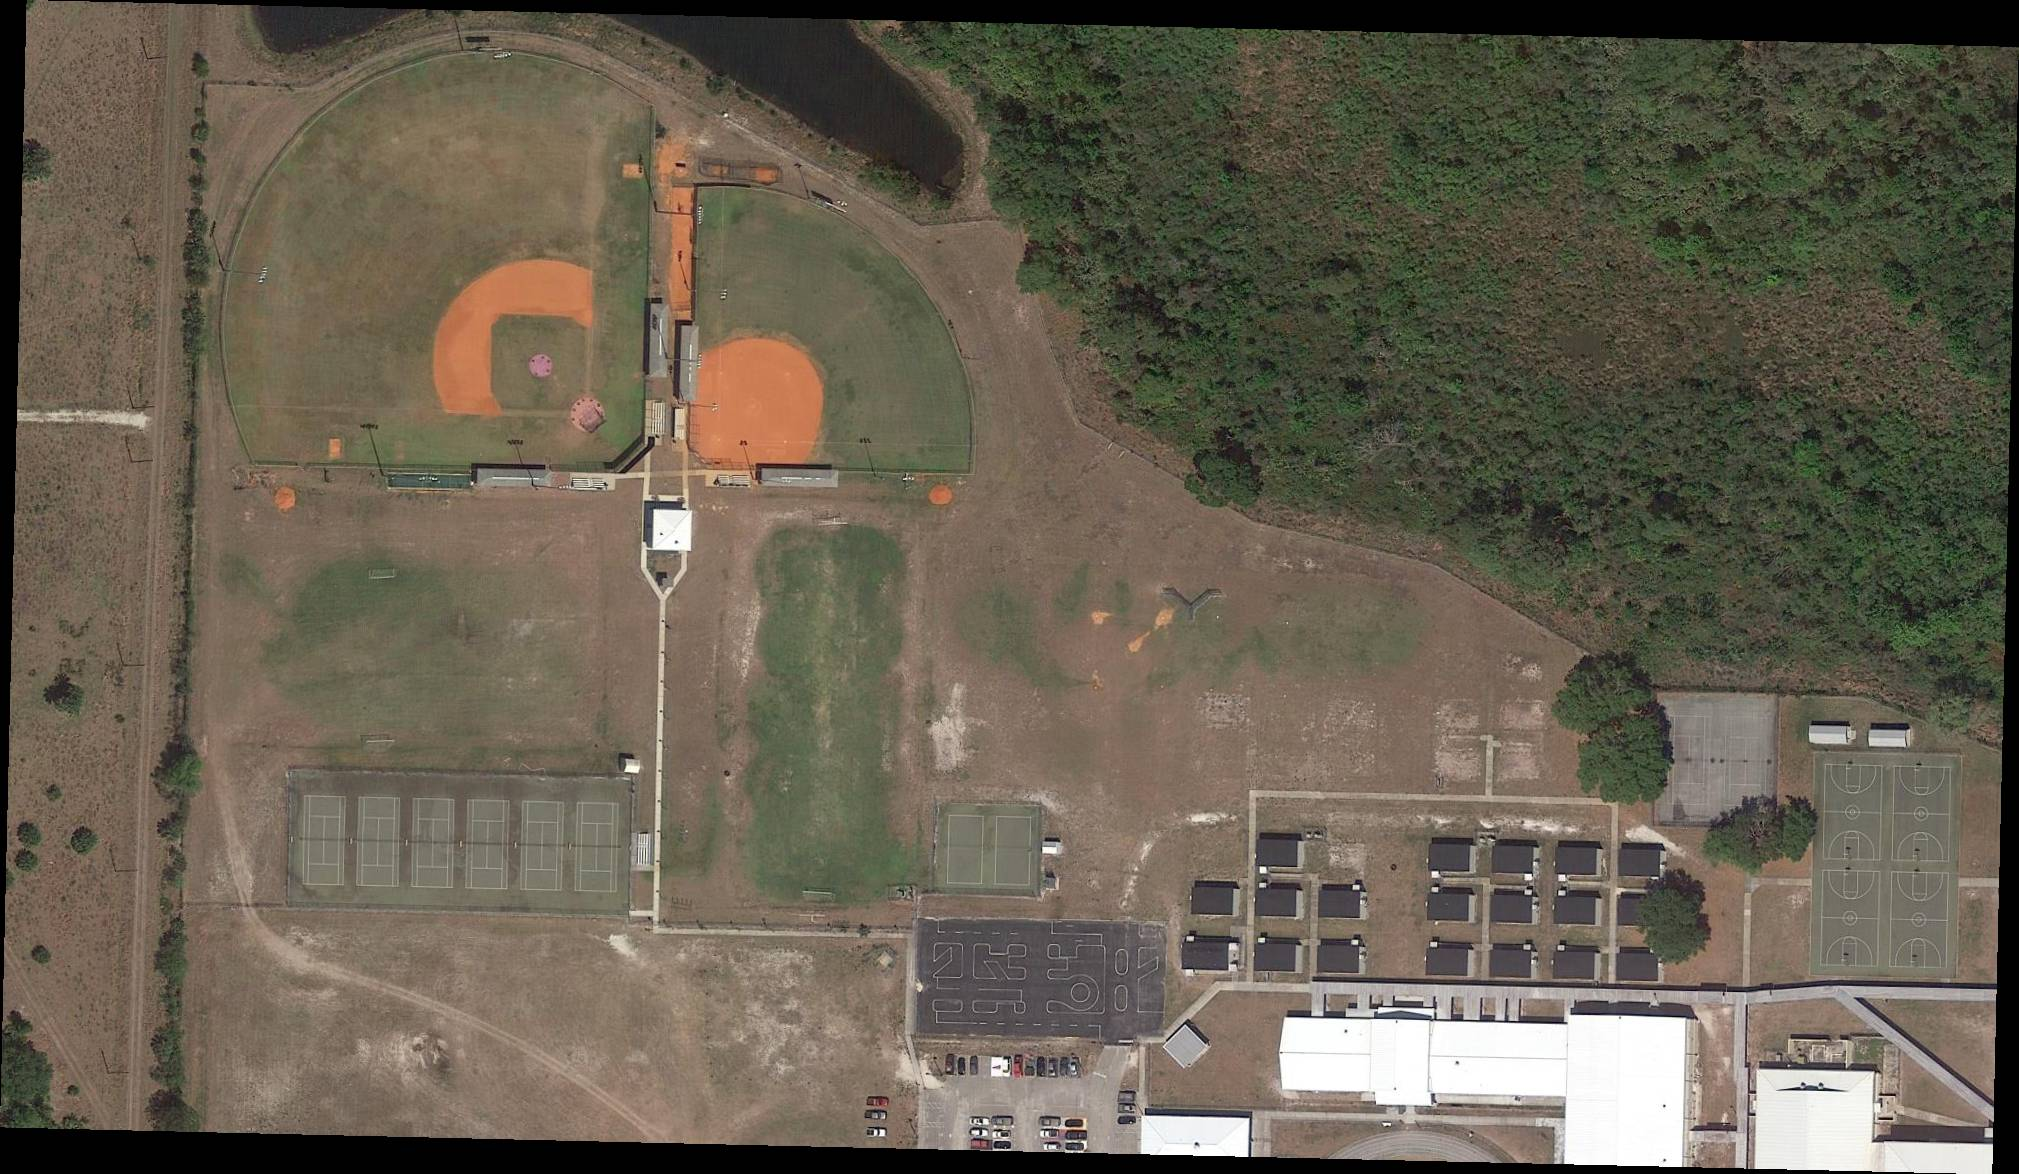baseball diamond: (431, 259, 593, 414), (720, 339, 825, 443), (1096, 616, 1164, 688)
basketball court: (1819, 870, 1882, 968), (1888, 872, 1949, 968), (1823, 765, 1883, 861), (1893, 767, 1951, 862)
soccer ball field: (312, 567, 457, 750)
tennis court: (465, 800, 512, 891), (574, 803, 620, 893), (302, 796, 347, 886), (520, 803, 565, 891), (411, 799, 455, 888), (358, 798, 400, 887), (1669, 715, 1710, 806), (1726, 718, 1766, 806), (947, 815, 985, 884), (995, 817, 1031, 885)
